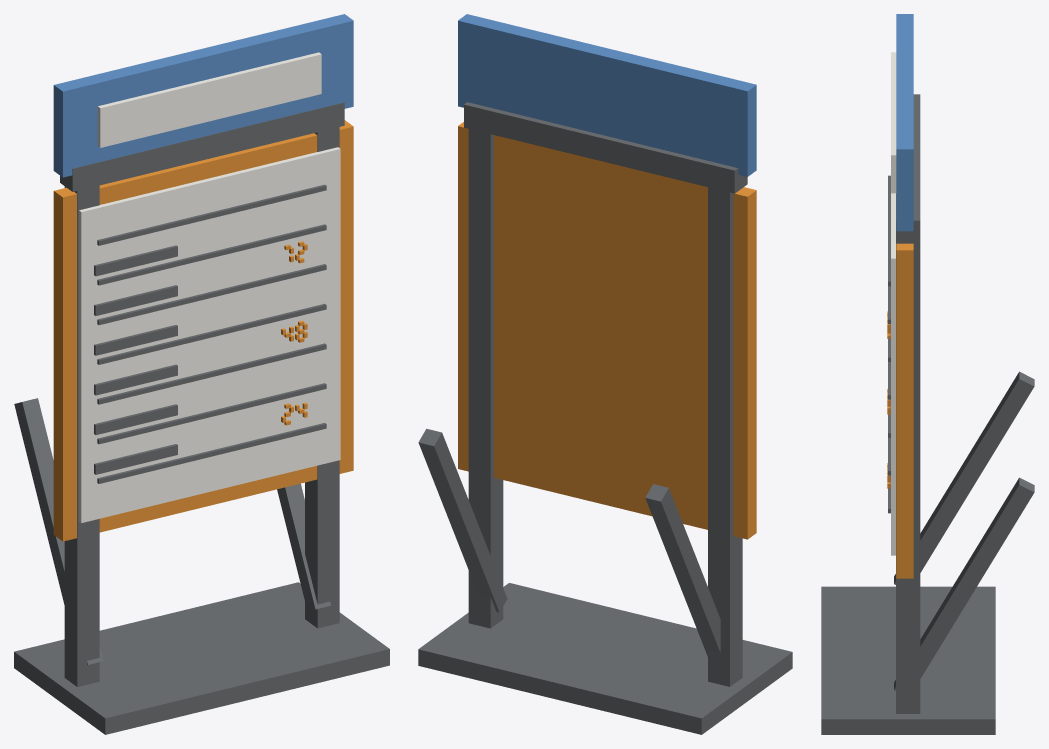
File: tool-hire-depot-and-plant-yard-tool-hire-depot-and-pla-fb7787f1__35305.glb
3 renders of one model, left to right at view 1: azimuth 30°, elevation 25°; view 2: azimuth 150°, elevation 25°; view 3: azimuth 270°, elevation 25°, orthographic. The views are drawn at different scales.
Visible parts, largest first — view 1: tool-hire-depot-and-plant-yard-hire-price-board; view 2: tool-hire-depot-and-plant-yard-hire-price-board; view 3: tool-hire-depot-and-plant-yard-hire-price-board.
Boxes of the visible parts, left/top/right/bottom form: tool-hire-depot-and-plant-yard-hire-price-board: left=14, top=14, right=389, bottom=734; tool-hire-depot-and-plant-yard-hire-price-board: left=418, top=14, right=792, bottom=734; tool-hire-depot-and-plant-yard-hire-price-board: left=821, top=14, right=1034, bottom=734.
Size of the model in its own units: 0.92 by 1.86 by 0.6119.
